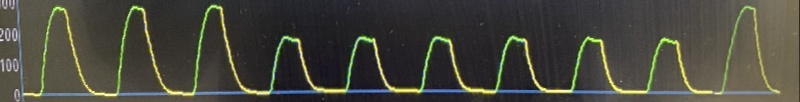normal_volume: (18, 5, 790, 102)
